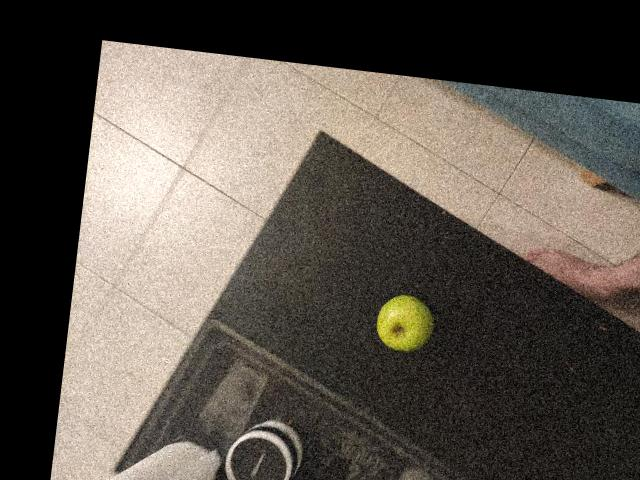apple: (288, 181, 361, 253)
